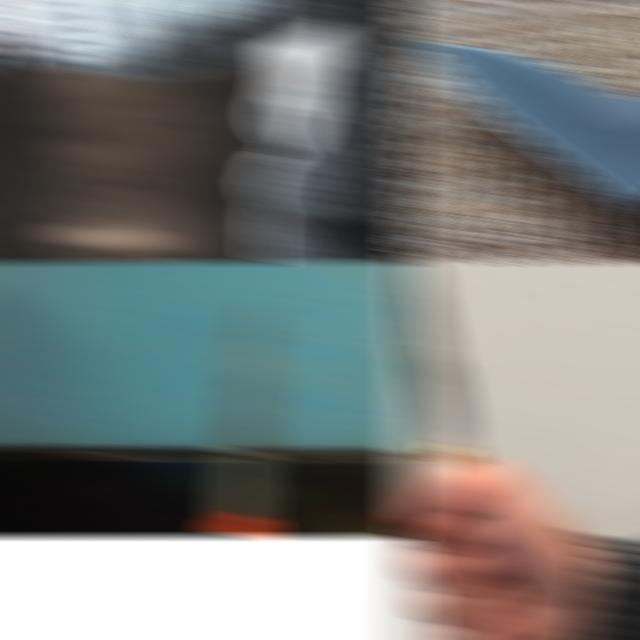Knife: (398, 261, 478, 470), (209, 303, 279, 538)
Knife_Handle: (398, 261, 574, 640)
